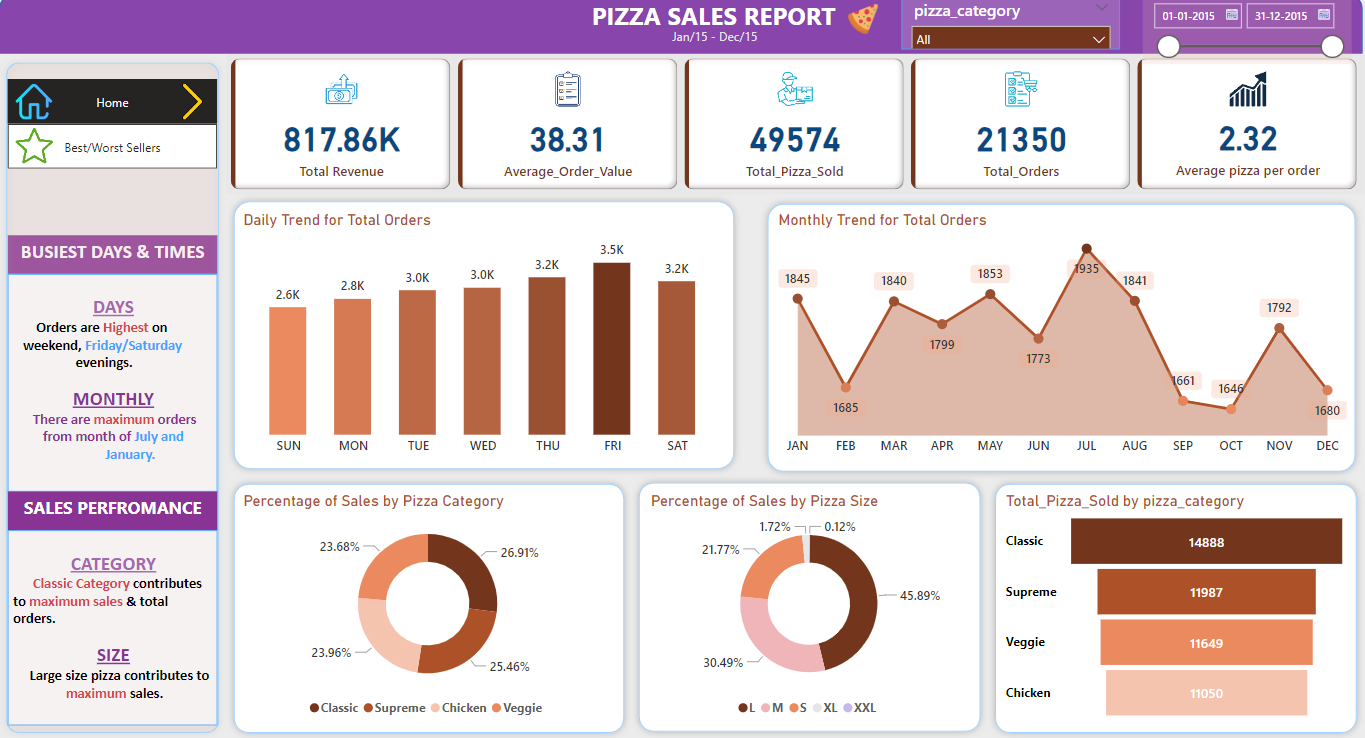

Layout of this report page (visuals, bound fields, positions):
{"tool":"powerbi","page":{"name":"Home","canvas":[1500,820],"ordinal":0},"visuals":[{"type":"cardVisual","fields":{"Data":["pizza_sales.Total Revenue","pizza_sales.Average_Order_Value","pizza_sales.Total_Pizza_Sold","pizza_sales.Total_Orders","pizza_sales.Average pizza per order"]},"box":[250,65.7,1250,154.3],"z":0},{"type":"shape","box":[0,0,1498.6,65.7],"z":1000},{"type":"textbox","box":[638.6,0,292.9,48.6],"z":2000},{"type":"textbox","box":[711.4,32.9,150,32.9],"z":3000},{"type":"image","box":[907.1,5.7,85.7,44.3],"z":4000},{"type":"shape","box":[250,220,565.7,310],"z":5000},{"type":"columnChart","title":"Daily Trend for Total Orders","fields":{"Category":["pizza_sales.Order Day"],"Y":["pizza_sales.Total_Orders"]},"box":[263.7,237.6,537.1,278.8],"z":6000},{"type":"shape","box":[836.5,222.5,662,310.4],"z":7000},{"type":"areaChart","title":"Monthly Trend for Total Orders","fields":{"Category":["pizza_sales.Order Month"],"Y":["pizza_sales.Total_Orders"]},"box":[851.6,237.6,634.6,278.8],"z":8000},{"type":"shape","box":[250,530.2,445,289.8],"z":9000},{"type":"shape","box":[695,528.8,391.5,289.8],"z":10000},{"type":"shape","box":[1086.5,530.2,413.4,289.8],"z":11000},{"type":"donutChart","title":"Percentage of Sales by Pizza Category","fields":{"Category":["pizza_sales.pizza_category"],"Y":["pizza_sales.Total Revenue"]},"box":[263.7,546.7,414.8,256.9],"z":12000},{"type":"donutChart","title":"Percentage of Sales by Pizza Size","fields":{"Y":["pizza_sales.Total Revenue"],"Category":["pizza_sales.pizza_size"]},"box":[711.5,546.7,357.1,256.9],"z":13000},{"type":"textbox","box":[9.6,265.1,230.8,42.6],"z":14000},{"type":"funnel","fields":{"Category":["pizza_sales.pizza_category"],"Y":["pizza_sales.Total_Pizza_Sold"]},"box":[1101.6,546.7,384.6,256.9],"z":15000},{"type":"shape","box":[0,67.3,250,752.7],"z":16000},{"type":"textbox","box":[9.6,307.7,230.8,239],"z":17000},{"type":"textbox","box":[9.6,589.2,230.8,214.3],"z":18000},{"type":"textbox","box":[9.6,546.7,230.8,42.6],"z":19000},{"type":"slicer","fields":{"Values":["pizza_sales.pizza_category"]},"box":[991.7,0,240.4,60.4],"z":20000},{"type":"slicer","fields":{"Values":["pizza_sales.order_date"]},"box":[1256.8,0,229.4,76.9],"z":21000},{"type":"pageNavigator","box":[9.6,93.4,230.8,49.4],"z":22000},{"type":"pageNavigator","box":[9.6,142.8,230.8,49.4],"z":23000},{"type":"image","box":[185.4,93.4,54.9,49.4],"z":24000},{"type":"image","box":[9.6,93.4,57.7,49.4],"z":25000},{"type":"image","box":[9.6,141.5,57.7,50.8],"z":26000}]}

Visuals, with their boxes in screenshot pixels (x1, y1, x2, y2), scaled from the page's 1500x820 canvas onto the 1365x738 screenshot:
cardVisual - pizza_sales.Total Revenue x pizza_sales.Average_Order_Value: bbox=(228, 59, 1364, 198)
shape: bbox=(0, 0, 1364, 59)
textbox: bbox=(581, 0, 848, 44)
textbox: bbox=(647, 30, 784, 59)
image: bbox=(825, 5, 903, 45)
shape: bbox=(228, 198, 742, 477)
"Daily Trend for Total Orders" columnChart: bbox=(240, 214, 729, 465)
shape: bbox=(761, 200, 1364, 480)
"Monthly Trend for Total Orders" areaChart: bbox=(775, 214, 1352, 465)
shape: bbox=(228, 477, 632, 737)
shape: bbox=(632, 476, 989, 737)
shape: bbox=(989, 477, 1364, 737)
"Percentage of Sales by Pizza Category" donutChart: bbox=(240, 492, 617, 723)
"Percentage of Sales by Pizza Size" donutChart: bbox=(647, 492, 972, 723)
textbox: bbox=(9, 239, 219, 277)
funnel - pizza_sales.pizza_category x pizza_sales.Total_Pizza_Sold: bbox=(1002, 492, 1352, 723)
shape: bbox=(0, 61, 228, 737)
textbox: bbox=(9, 277, 219, 492)
textbox: bbox=(9, 530, 219, 723)
textbox: bbox=(9, 492, 219, 530)
slicer - pizza_sales.pizza_category: bbox=(902, 0, 1121, 54)
slicer - pizza_sales.order_date: bbox=(1144, 0, 1352, 69)
pageNavigator: bbox=(9, 84, 219, 129)
pageNavigator: bbox=(9, 129, 219, 173)
image: bbox=(169, 84, 219, 129)
image: bbox=(9, 84, 61, 129)
image: bbox=(9, 127, 61, 173)
